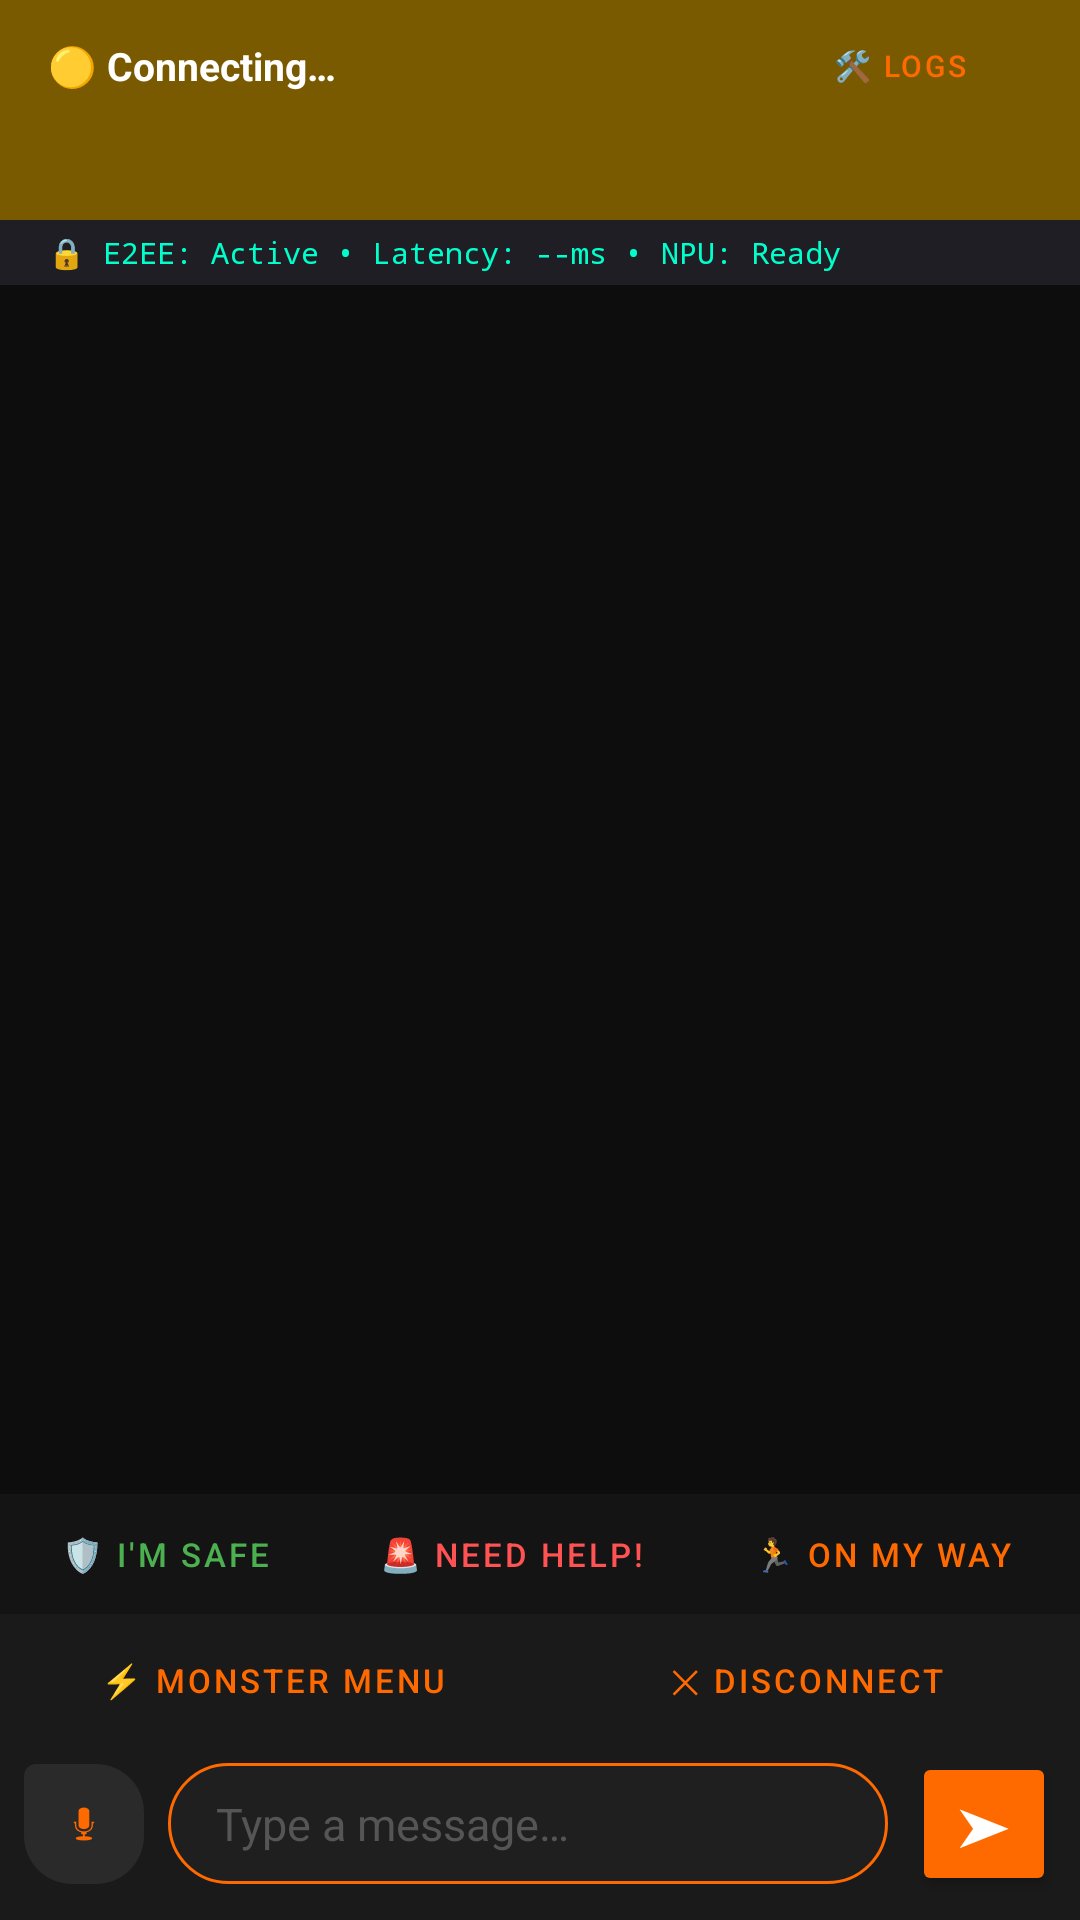

Icons on this 1080×1920 Android screen, each with the point to tap as [x,y]:
Voice input: [84,1824]
